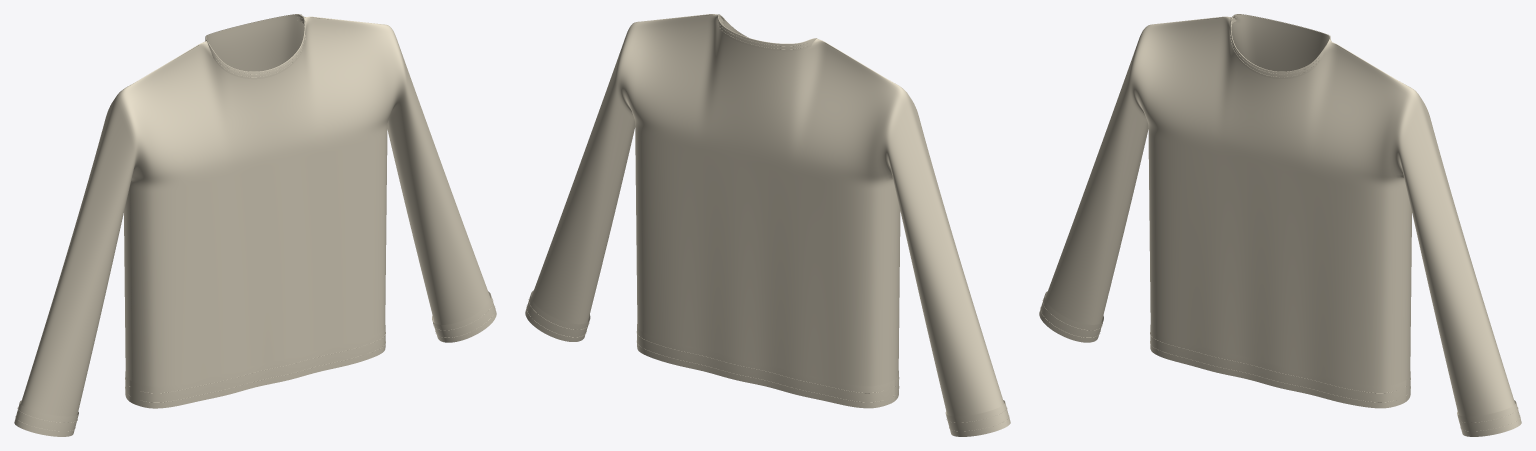
File: veil-crewneck-tailored-v6.glb
3 renders of one model, left to right at view 1: azimuth 30°, elevation 25°; view 2: azimuth 150°, elevation 25°; view 3: azimuth 330°, elevation 25°, orthographic.
Visible parts, largest first — view 1: front cotton, Sleeve cotton, Bound collar and folded hems, Interior cotton, back cotton, Double-needle stitching; view 2: back cotton, Sleeve cotton, Bound collar and folded hems, front cotton, Double-needle stitching; view 3: front cotton, Sleeve cotton, Bound collar and folded hems, Interior cotton, back cotton, Double-needle stitching.
Boxes of the visible parts, <box> form: front cotton: <box>120,16,402,386</box>; Sleeve cotton: <box>20,29,490,416</box>; Bound collar and folded hems: <box>14,14,496,436</box>; Interior cotton: <box>178,14,331,71</box>; back cotton: <box>119,16,305,379</box>; Double-needle stitching: <box>15,17,495,431</box>; back cotton: <box>619,14,903,386</box>; Sleeve cotton: <box>531,27,1004,416</box>; Bound collar and folded hems: <box>525,14,1010,436</box>; front cotton: <box>894,83,904,378</box>; Double-needle stitching: <box>526,16,1009,431</box>; front cotton: <box>1132,16,1415,386</box>; Sleeve cotton: <box>1045,29,1515,416</box>; Bound collar and folded hems: <box>1039,14,1521,436</box>; Interior cotton: <box>1201,14,1352,71</box>; back cotton: <box>1329,38,1416,379</box>; Double-needle stitching: <box>1040,17,1520,431</box>.
Size of the model in its own units: 0.9144 by 0.6546 by 0.1189.
